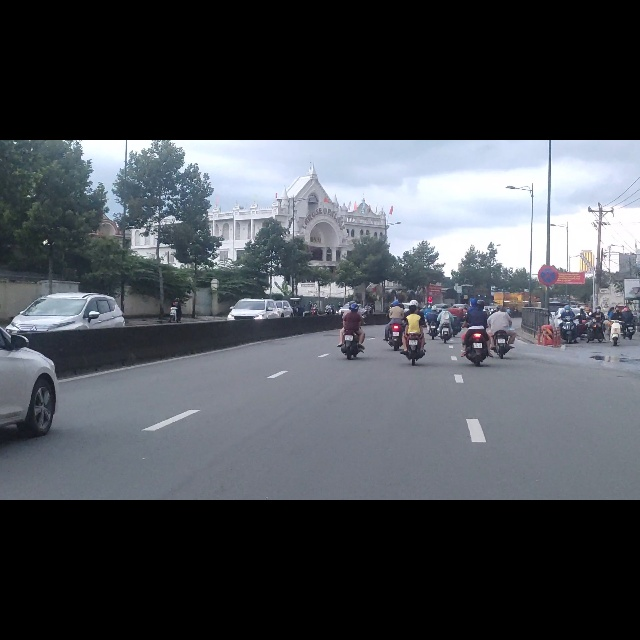bien_cam: (538, 223, 559, 260)
